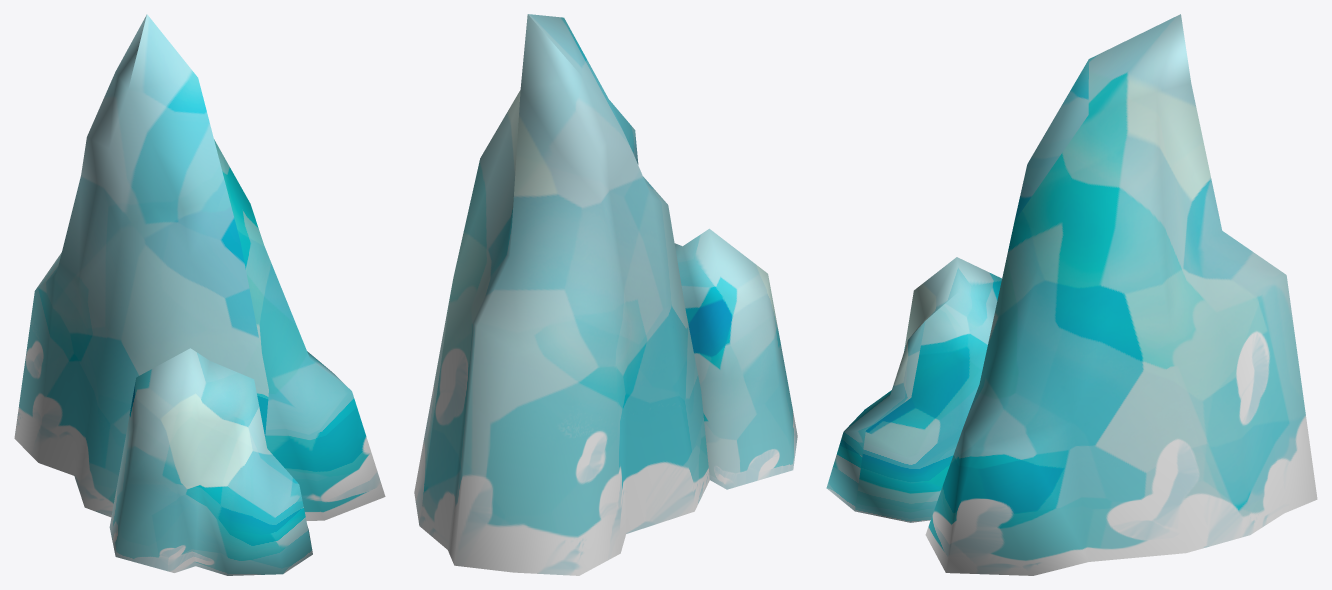
Rendered from env_ice_rocks_lg2.fbx.
3 renders of one model, left to right at view 1: azimuth 30°, elevation 25°; view 2: azimuth 150°, elevation 25°; view 3: azimuth 270°, elevation 25°, orthographic. The views are drawn at different scales.
Visible parts, largest first — view 1: env_ice_rocks_lg2_geo; view 2: env_ice_rocks_lg2_geo; view 3: env_ice_rocks_lg2_geo.
Boxes of the visible parts, x1,y1,x2,y2 form: env_ice_rocks_lg2_geo: [14, 14, 385, 575]; env_ice_rocks_lg2_geo: [414, 14, 797, 575]; env_ice_rocks_lg2_geo: [826, 14, 1317, 575].
Size of the model in its own units: 391 by 607 by 555.
